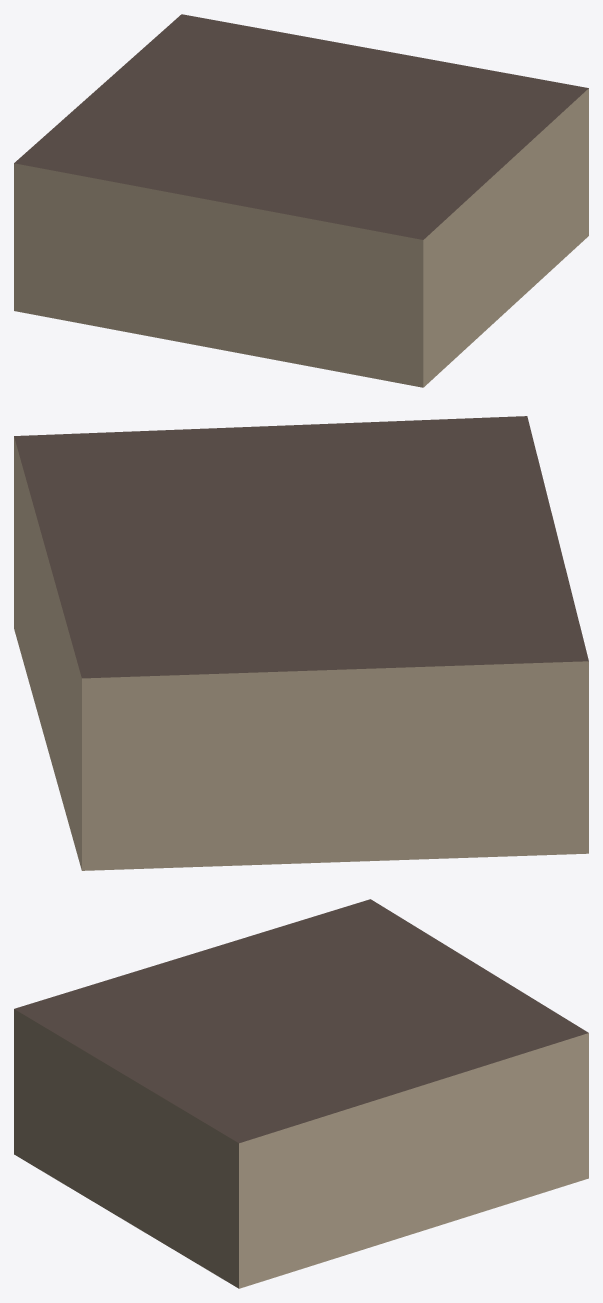
3 views of the same model, one above another, from view 1: azimuth 30°, elevation 25°; view 2: azimuth 150°, elevation 25°; view 3: azimuth 270°, elevation 25° (orthographic). The views are drawn at different scales.
Parts seen in each view (by area): view 1: HP-w1197065011; view 2: HP-w1197065011; view 3: HP-w1197065011.
Part boxes in pixels (box(x1,y1,x2,y2)): HP-w1197065011: box(14, 14, 588, 387); HP-w1197065011: box(14, 416, 588, 870); HP-w1197065011: box(14, 899, 588, 1288).
Size of the model in its own units: 32.4 by 9 by 32.23.
